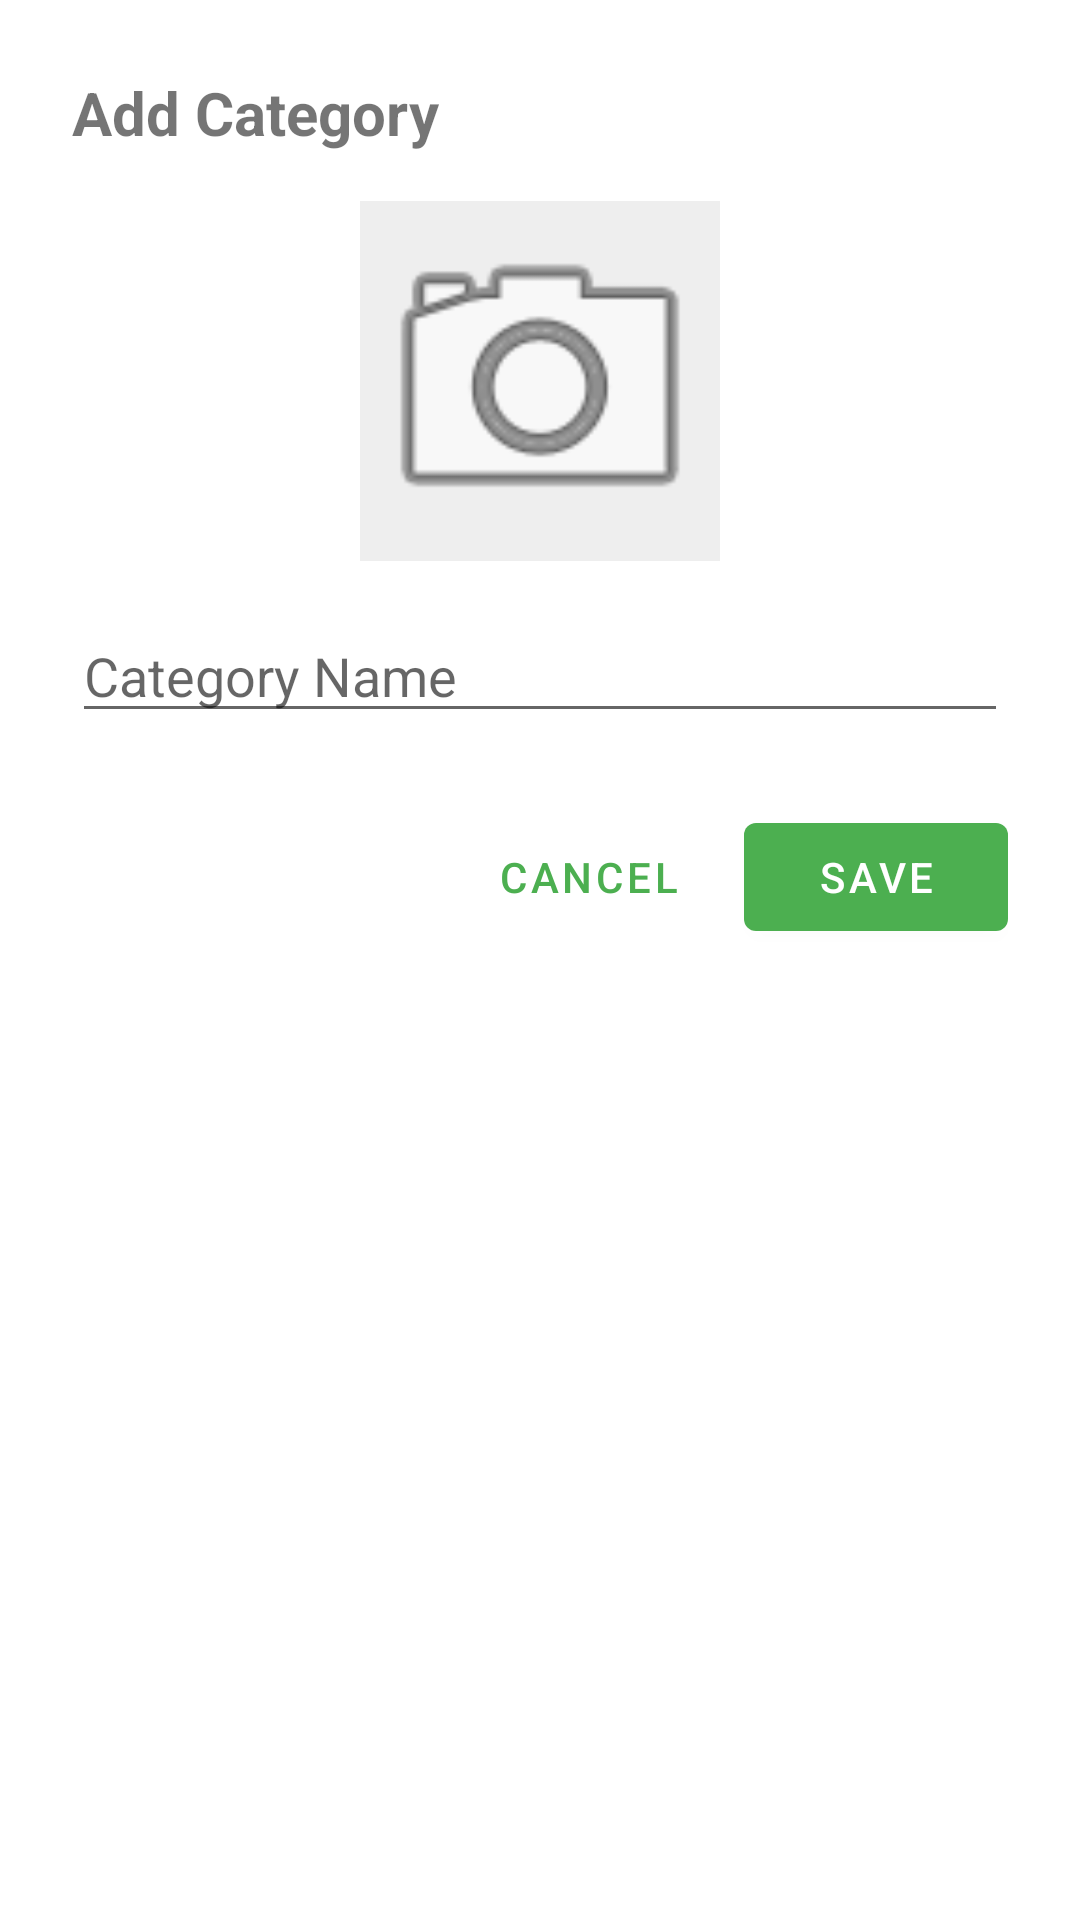

Icons on this 1080 x 1920 Android screen, each with its box as (x1, y1, x2, y2):
camera: (360, 201, 720, 561)
